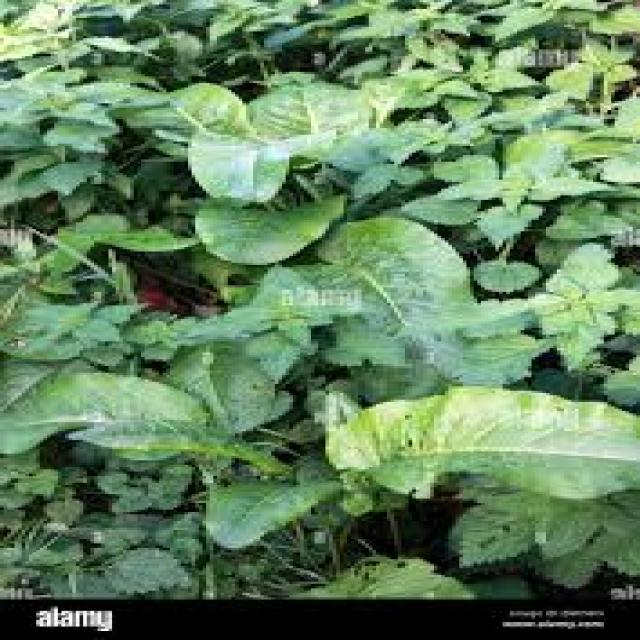organic waste: (0, 357, 640, 582), (225, 195, 590, 418)
